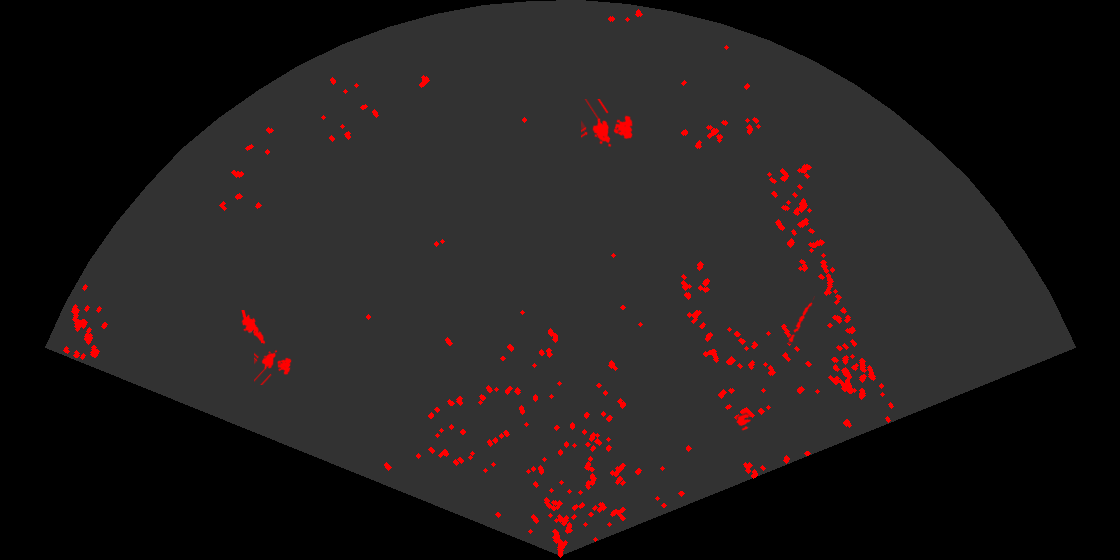ball: (735, 412, 752, 432)
cage: (581, 99, 634, 149), (254, 348, 293, 385)
chain: (787, 296, 815, 344)
frogman: (240, 310, 267, 346)
